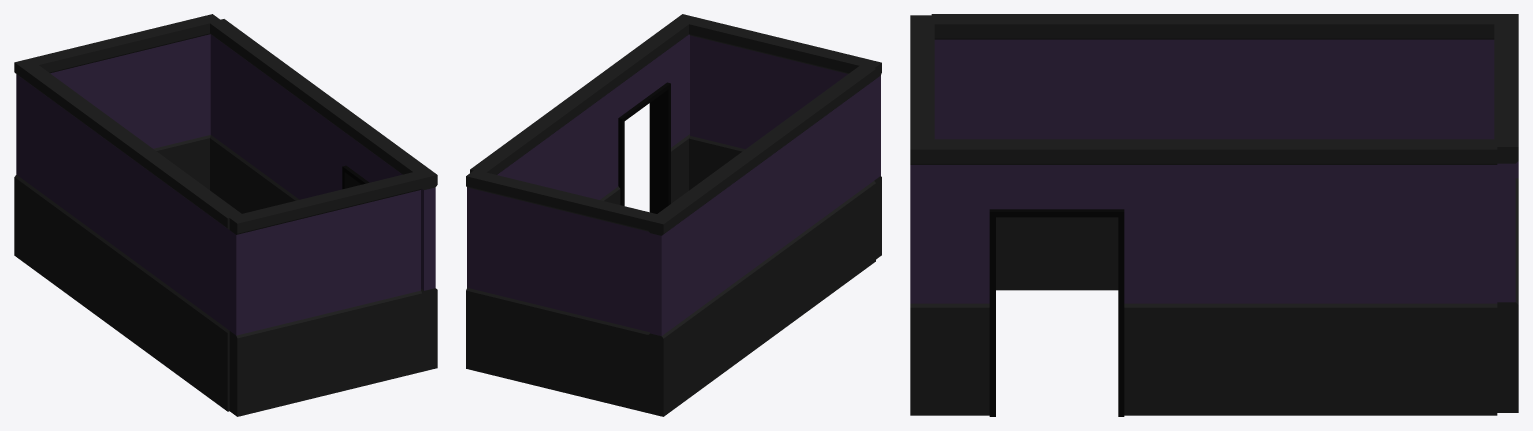
File: Bathroom 2.fbx
3 views of the same model, side by side, from view 1: azimuth 30°, elevation 25°; view 2: azimuth 150°, elevation 25°; view 3: azimuth 270°, elevation 25° (orthographic). The views are drawn at different scales.
Visible parts, largest first — view 1: Classic_Wall_snaps001 (68), Classic_Wall_snaps001 (66), Classic_Wall_snaps001 (67), Classic_Wall_snaps001 (64), Classic_Wall_snaps001 (65), Classic_WallDoorFrame_02_snaps001 (13); view 2: Classic_Wall_snaps001 (65), Classic_Wall_snaps001 (67), Classic_Wall_snaps001 (66), Classic_Wall_snaps001 (68), Classic_WallDoorFrame_02_snaps001 (13), Classic_Wall_snaps001 (64); view 3: Classic_Wall_snaps001 (64), Classic_WallDoorFrame_02_snaps001 (13), Classic_Wall_snaps001 (66), Classic_Wall_snaps001 (67), Classic_Wall_snaps001 (65), Classic_Wall_snaps001 (68).
Part boxes in pixels (<box>): Classic_Wall_snaps001 (68): <box>229,172,421,416</box>; Classic_Wall_snaps001 (66): <box>121,136,242,411</box>; Classic_Wall_snaps001 (67): <box>14,59,135,333</box>; Classic_Wall_snaps001 (64): <box>209,19,330,213</box>; Classic_Wall_snaps001 (65): <box>28,14,219,189</box>; Classic_WallDoorFrame_02_snaps001 (13): <box>315,97,437,371</box>; Classic_Wall_snaps001 (65): <box>466,170,658,412</box>; Classic_Wall_snaps001 (67): <box>648,143,769,416</box>; Classic_Wall_snaps001 (66): <box>754,65,875,338</box>; Classic_Wall_snaps001 (68): <box>689,18,881,259</box>; Classic_WallDoorFrame_02_snaps001 (13): <box>576,14,697,213</box>; Classic_Wall_snaps001 (64): <box>470,92,591,197</box>; Classic_Wall_snaps001 (64): <box>1203,139,1497,415</box>; Classic_WallDoorFrame_02_snaps001 (13): <box>910,139,1203,416</box>; Classic_Wall_snaps001 (66): <box>931,14,1225,290</box>; Classic_Wall_snaps001 (67): <box>1225,14,1518,181</box>; Classic_Wall_snaps001 (65): <box>1494,23,1518,412</box>; Classic_Wall_snaps001 (68): <box>910,15,934,139</box>.
Size of the model in its own units: 3.31 by 3 by 6.22.
